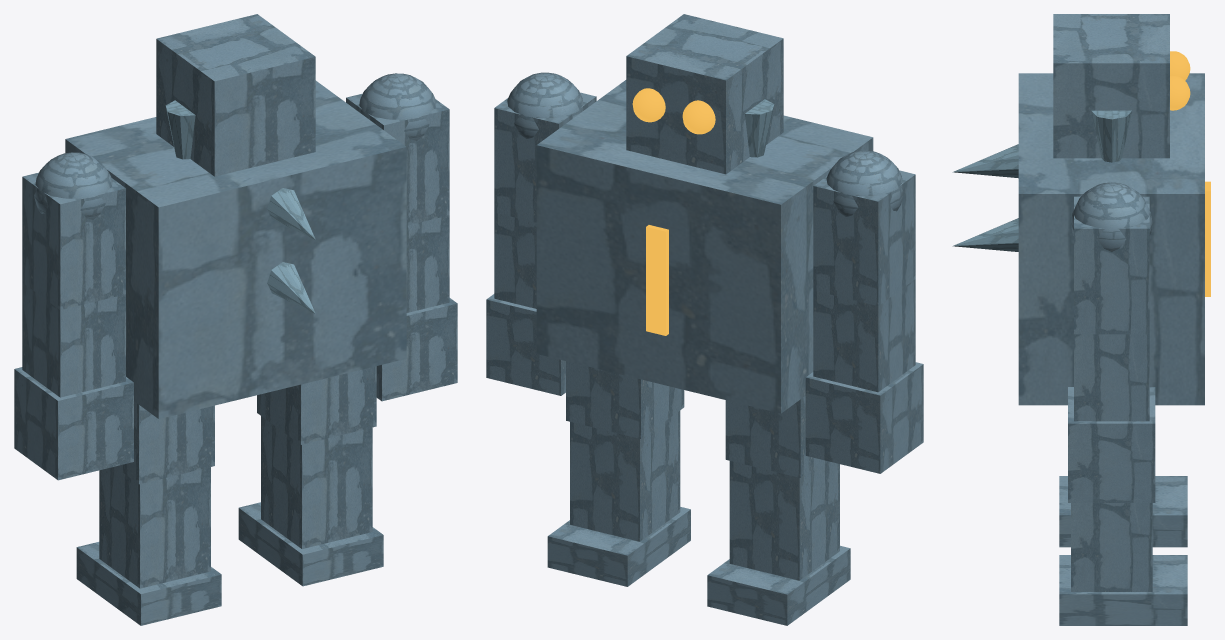
The model's file is golem-ice.glb.
3 renders of one model, left to right at view 1: azimuth 30°, elevation 25°; view 2: azimuth 150°, elevation 25°; view 3: azimuth 270°, elevation 25°, orthographic.
Visible parts, largest first — view 1: Torso, Head, Shin.001, Shin, UpperArm, Fist, Forearm, Thigh.001, Foot, Foot.001, Thigh, Fist.001 (+7 smaller); view 2: Torso, Head, Shin.001, Shin, UpperArm, Fist, Forearm, Thigh.001, Foot, Foot.001, Thigh, Fist.001 (+8 smaller); view 3: Torso, Head, UpperArm.001, Fist.001, Shin.001, Forearm.001, Foot.001, JointShoulder.001, Foot, Icicle.5, IceShard.0, IceShard.1 (+3 smaller).
Part boxes in pixels (box(x1,y1,x2,y2)): Torso: box(65, 80, 406, 418); Head: box(156, 14, 315, 176); Shin.001: box(261, 416, 372, 548); Shin: box(99, 466, 210, 588); UpperArm: box(22, 172, 125, 310); Fist: box(14, 367, 133, 480); Forearm: box(22, 283, 125, 397); Thigh.001: box(257, 366, 376, 444); Foot: box(76, 542, 221, 625); Foot.001: box(238, 502, 383, 586); Thigh: box(115, 401, 214, 484); Fist.001: box(376, 298, 457, 401); Torso: box(536, 80, 873, 413); Head: box(626, 14, 783, 174); Shin.001: box(570, 410, 680, 541); Shin: box(729, 460, 839, 580); UpperArm: box(813, 170, 915, 305); Fist: box(805, 362, 923, 473); Forearm: box(813, 279, 915, 392); Thigh.001: box(566, 361, 684, 438); Foot: box(707, 545, 850, 625); Foot.001: box(547, 507, 690, 586); Thigh: box(725, 396, 824, 477); Fist.001: box(486, 294, 565, 395); Torso: box(1018, 73, 1204, 405); Head: box(1053, 14, 1169, 158); UpperArm.001: box(1074, 196, 1149, 334); Fist.001: box(1068, 387, 1155, 502); Shin.001: box(1071, 503, 1152, 591); Forearm.001: box(1074, 334, 1149, 421); Foot.001: box(1059, 555, 1187, 625); JointShoulder.001: box(1071, 182, 1152, 251); Foot: box(1059, 476, 1187, 547); Icicle.5: box(1091, 110, 1131, 162); IceShard.0: box(952, 218, 1018, 251); IceShard.1: box(952, 144, 1018, 178).
Size of the model in its own units: 0.79 by 1 by 0.4439.
Materials: 3 (2 with a texture image).
